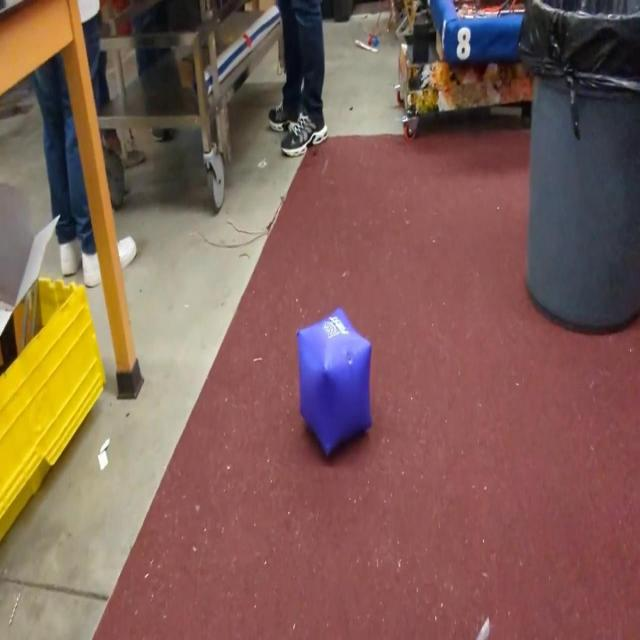frc_cube: (296, 308, 372, 458)
